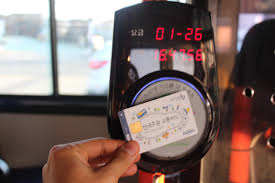terminal: (105, 1, 221, 165)
